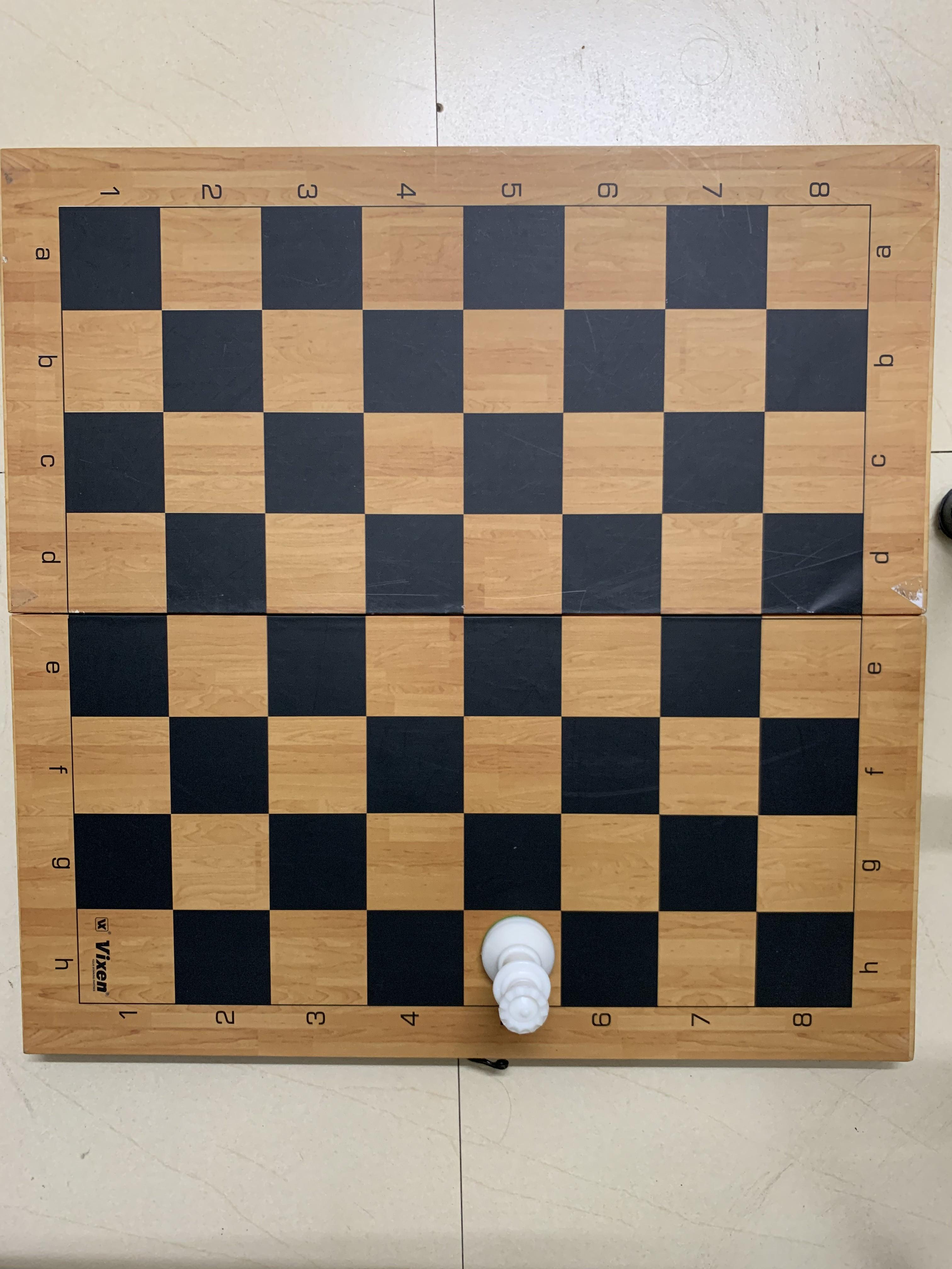white_queen: (464, 906, 564, 1040)
